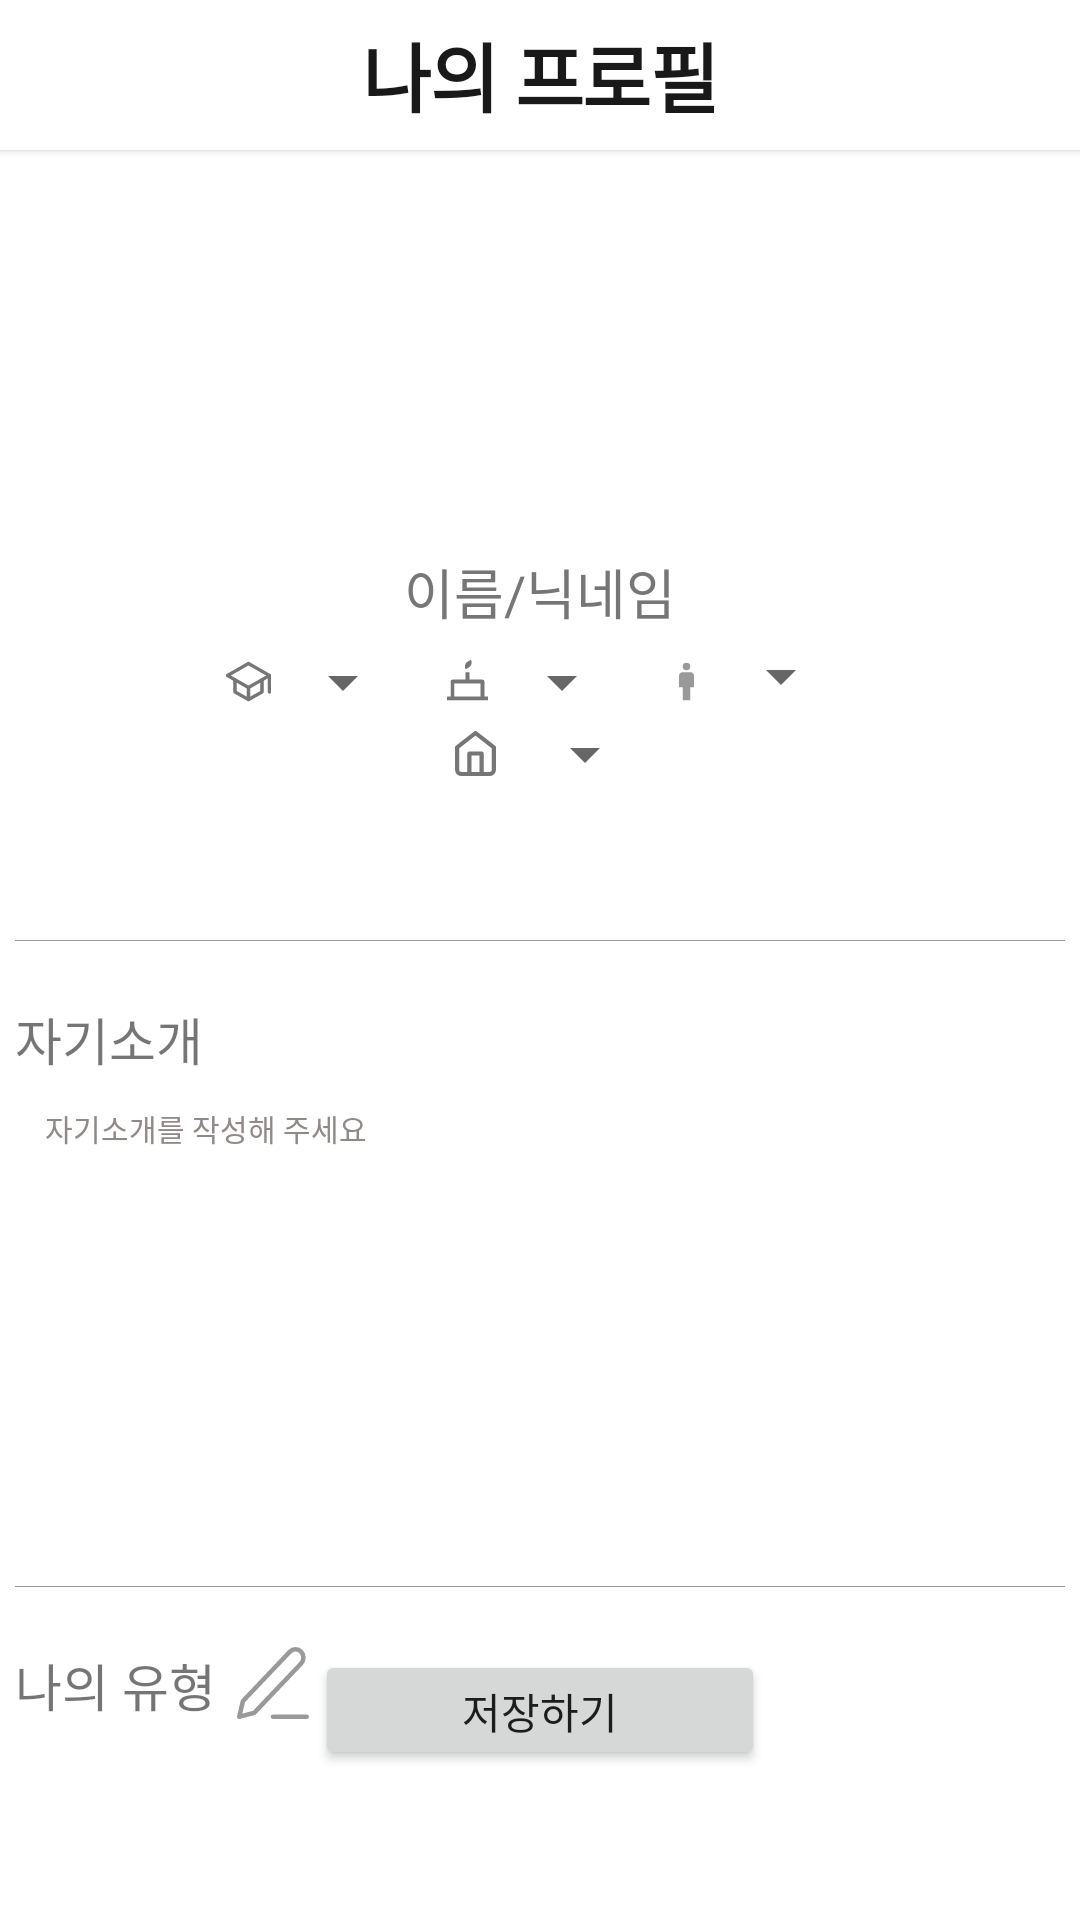

Icons on this 1080×1920 Android screen, each with the point to tap as [x,y]:
cake: [467,680]
cap: [248,681]
edit: [273,1683]
gender: [686,681]
home: [475,753]
